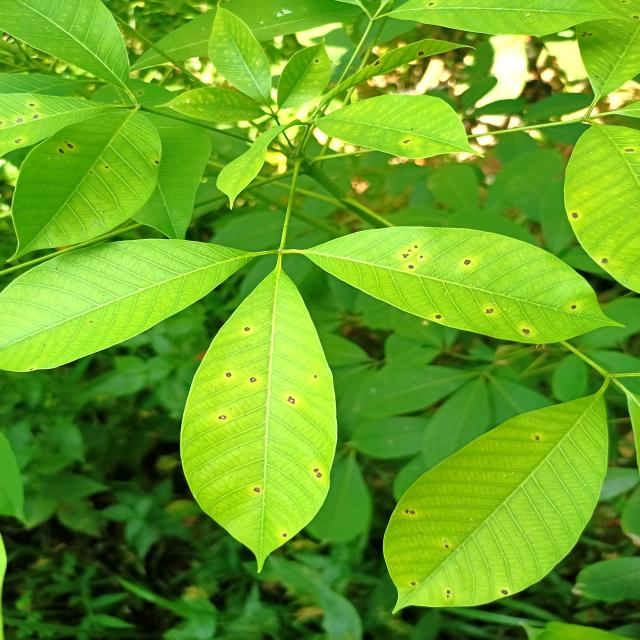Colletotrichum: (287, 398, 295, 404), (486, 308, 494, 314), (601, 258, 608, 264), (522, 329, 530, 334), (316, 472, 322, 478), (572, 212, 578, 218), (464, 260, 470, 265), (418, 51, 424, 56), (67, 144, 74, 148), (226, 372, 231, 377), (250, 378, 256, 382), (254, 488, 260, 492), (244, 327, 250, 331), (408, 265, 414, 269), (436, 315, 442, 319), (16, 118, 22, 122), (15, 139, 21, 143), (501, 590, 507, 594), (410, 582, 416, 586), (428, 2, 434, 6), (221, 416, 226, 420), (314, 468, 319, 472), (571, 305, 576, 309), (59, 149, 64, 153), (409, 510, 414, 514), (633, 16, 639, 19), (535, 436, 539, 440), (405, 509, 409, 513), (444, 544, 448, 548), (314, 60, 319, 63), (155, 161, 159, 164), (34, 115, 38, 118), (447, 590, 450, 594), (582, 34, 586, 37), (289, 396, 292, 399), (314, 375, 317, 378), (414, 246, 418, 248), (105, 166, 109, 168), (30, 104, 34, 106), (588, 34, 592, 36), (420, 256, 423, 258), (408, 250, 411, 252), (406, 254, 409, 256)
Leaf-Blight: (282, 534, 287, 537)
